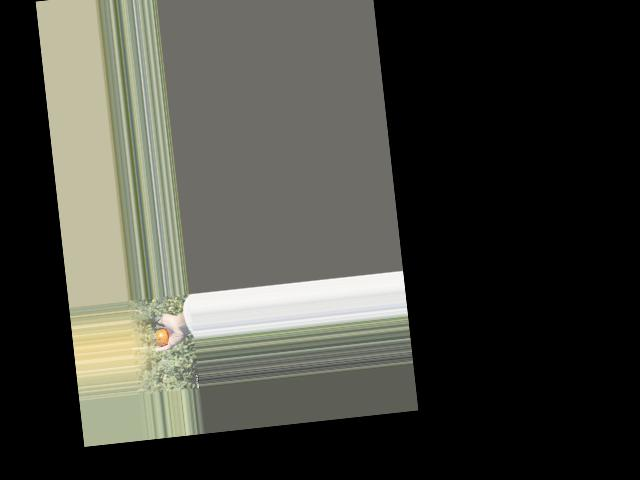tomato: (153, 329, 169, 347)
